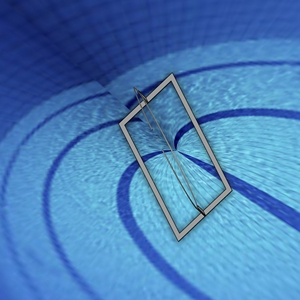circle: (117, 73, 232, 243)
